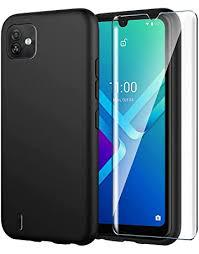Smartphone: (6, 13, 98, 241), (95, 8, 179, 242)
